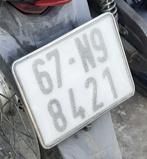1: (97, 63, 127, 104)
2: (79, 73, 110, 116)
4: (62, 84, 91, 126)
6: (28, 55, 56, 99)
7: (43, 46, 70, 91)
8: (43, 94, 73, 137)
9: (86, 24, 116, 69)
N: (71, 29, 100, 77)
